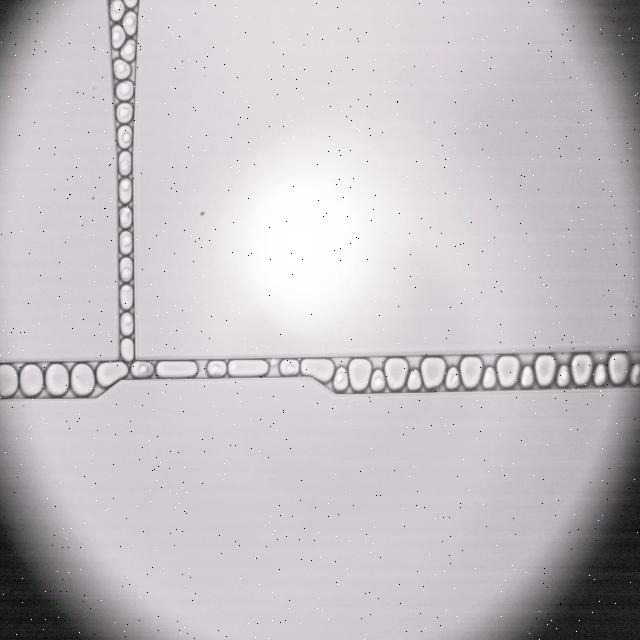L: (333, 367, 348, 391), (116, 81, 134, 100), (116, 103, 133, 123), (123, 11, 137, 35), (119, 284, 133, 308), (132, 361, 153, 377), (119, 178, 132, 203), (114, 60, 131, 79), (280, 359, 299, 376), (118, 125, 132, 148), (110, 0, 125, 21), (120, 40, 135, 61), (112, 25, 125, 49), (120, 257, 133, 281), (120, 313, 134, 335), (120, 338, 134, 360), (207, 361, 226, 377), (119, 231, 132, 254), (371, 370, 385, 391), (119, 151, 131, 175), (408, 369, 421, 391), (446, 367, 459, 389), (483, 367, 496, 389), (119, 207, 132, 228), (594, 364, 607, 385), (521, 366, 533, 387), (557, 366, 569, 387), (630, 363, 640, 386), (124, 0, 137, 7)
S: (301, 359, 335, 383), (96, 362, 128, 387), (71, 363, 95, 396), (20, 364, 43, 396), (46, 364, 69, 396), (349, 359, 372, 391), (421, 358, 446, 387), (385, 358, 408, 389), (496, 356, 519, 387), (461, 356, 483, 388), (571, 354, 592, 386), (157, 361, 198, 377), (535, 355, 556, 386), (608, 353, 629, 384), (228, 360, 268, 376), (0, 365, 18, 397)
